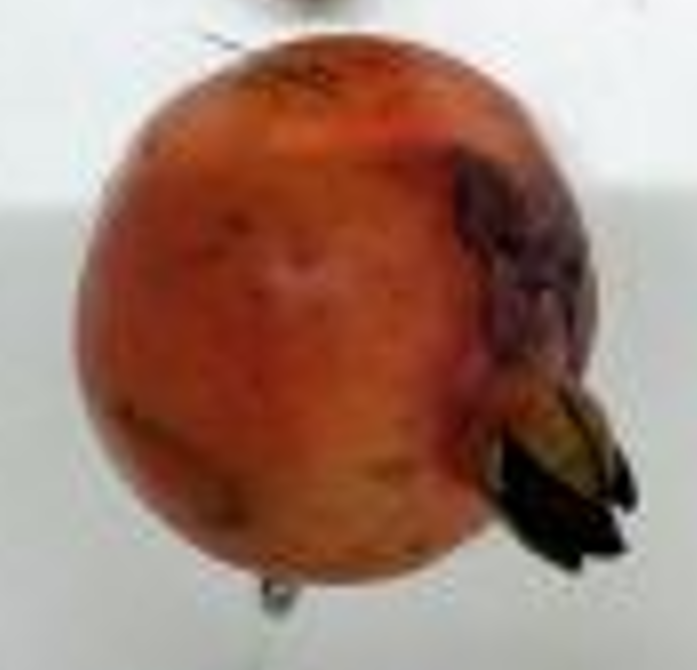pomegranate_C: (75, 34, 640, 587)
